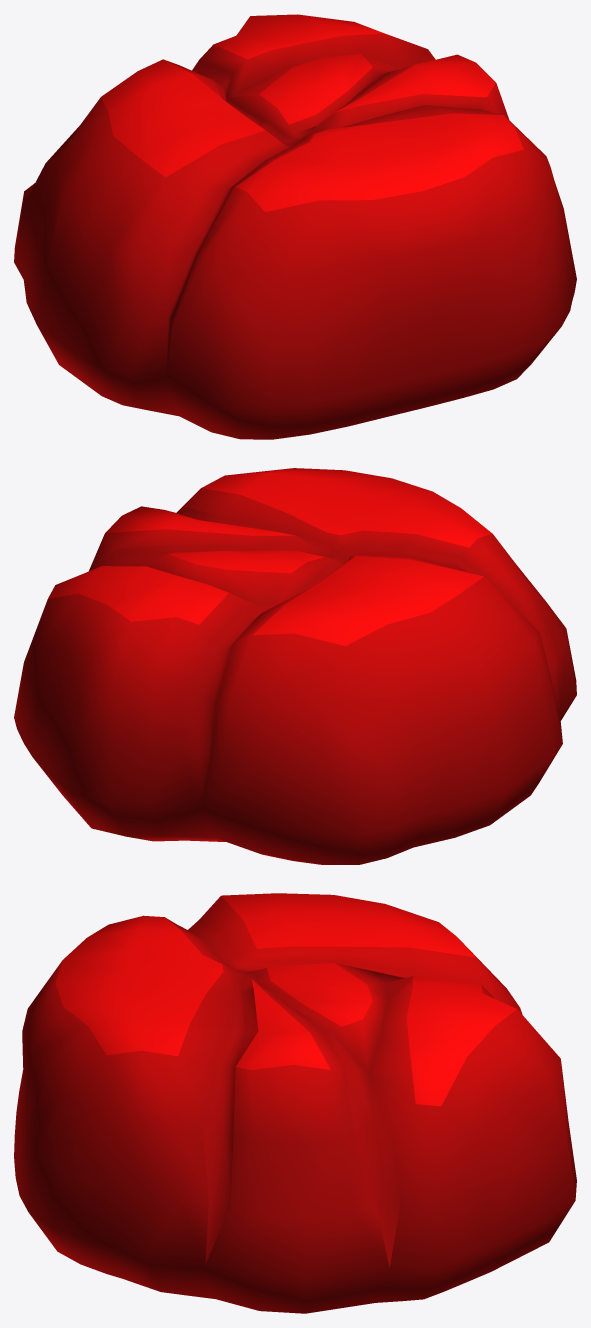
File: geology-landforms-icefloe_v4.fbx
The picture shows the model from 3 angles, top to bottom: view 1: azimuth 30°, elevation 25°; view 2: azimuth 150°, elevation 25°; view 3: azimuth 270°, elevation 25°; orthographic projection. The views are drawn at different scales.
Parts seen in each view (by area): view 1: IceFloe_v4; view 2: IceFloe_v4; view 3: IceFloe_v4.
Boxes of the visible parts, left/top/right/bottom form: IceFloe_v4: left=14, top=14, right=576, bottom=439; IceFloe_v4: left=14, top=468, right=576, bottom=864; IceFloe_v4: left=14, top=893, right=576, bottom=1313.
Size of the model in its own units: 3.55 by 1.64 by 3.37.
